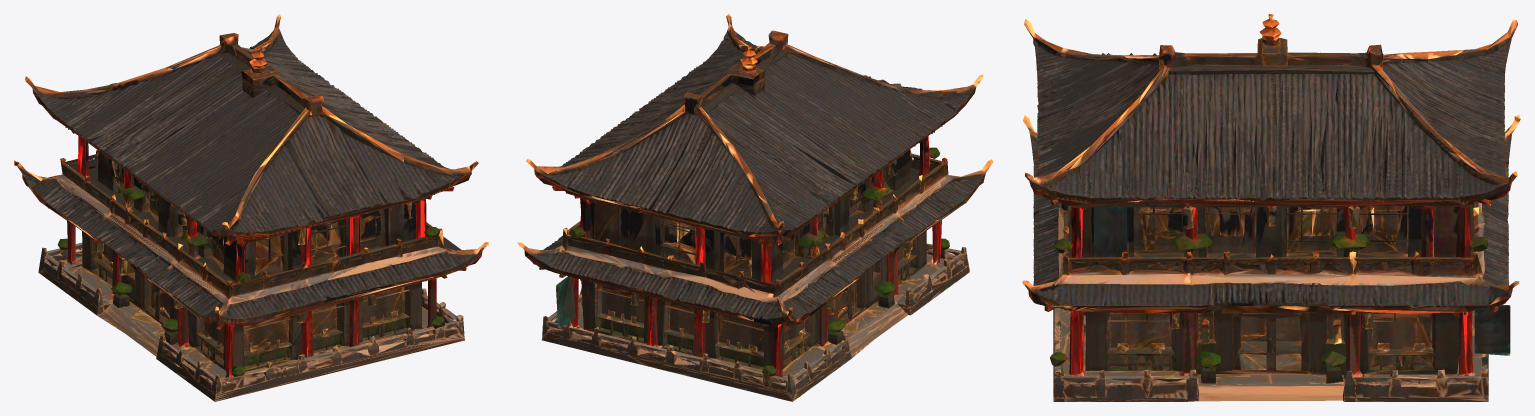
The picture shows the model from 3 angles, left to right: view 1: azimuth 30°, elevation 25°; view 2: azimuth 150°, elevation 25°; view 3: azimuth 270°, elevation 25°; orthographic projection. The views are drawn at different scales.
Visible parts, largest first — view 1: o04; view 2: o04; view 3: o04.
Boxes of the visible parts, left/top/right/bottom form: o04: left=14, top=14, right=488, bottom=401; o04: left=517, top=14, right=993, bottom=401; o04: left=1022, top=14, right=1520, bottom=401.
Bounding box in the file's own units: 22.27 × 20 × 28.51.
1 material, 1 textured.
